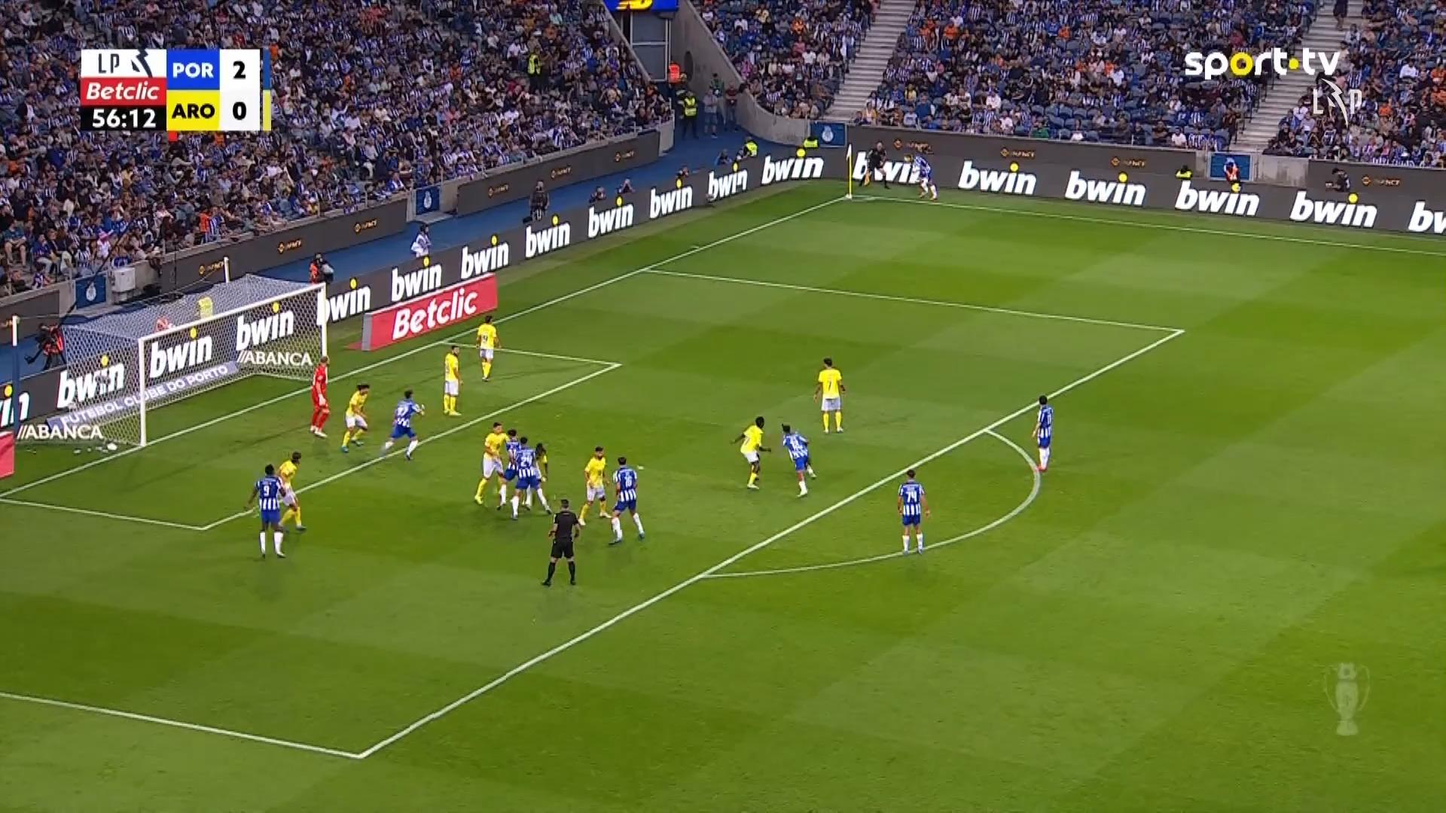ball: (845, 193, 852, 200)
goalkeeper: (308, 355, 331, 438)
player: (244, 463, 291, 559), (509, 436, 552, 519), (607, 455, 645, 544), (473, 421, 509, 510), (730, 415, 771, 489), (383, 388, 425, 460), (896, 468, 931, 554), (779, 422, 816, 497), (576, 446, 610, 525), (275, 450, 307, 531), (813, 356, 846, 434), (340, 382, 370, 453), (498, 428, 522, 510), (1031, 394, 1053, 472), (475, 314, 500, 382), (441, 344, 462, 416), (908, 150, 938, 199)
referee: (540, 497, 582, 586), (859, 141, 890, 189)
